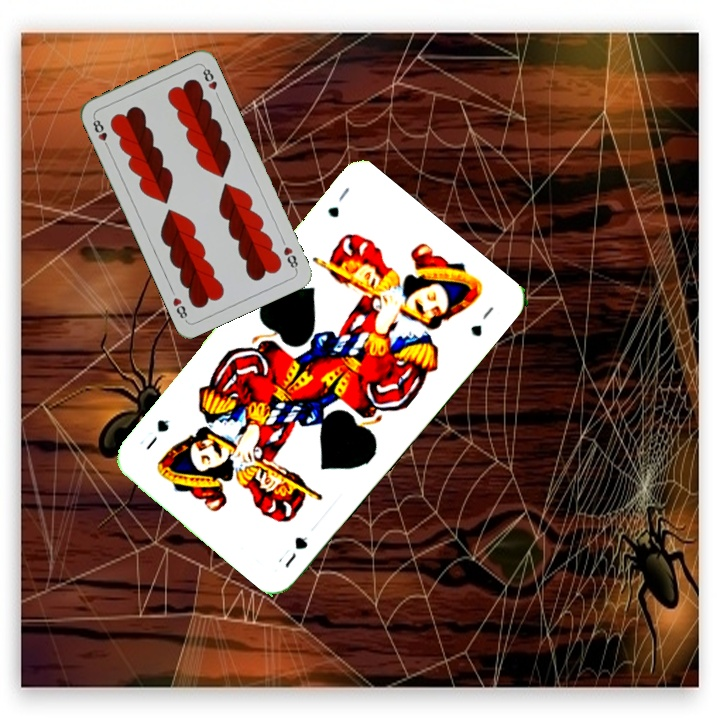GU: (273, 532, 311, 571), (323, 183, 352, 221)
H8: (89, 113, 112, 152), (279, 242, 301, 273)
